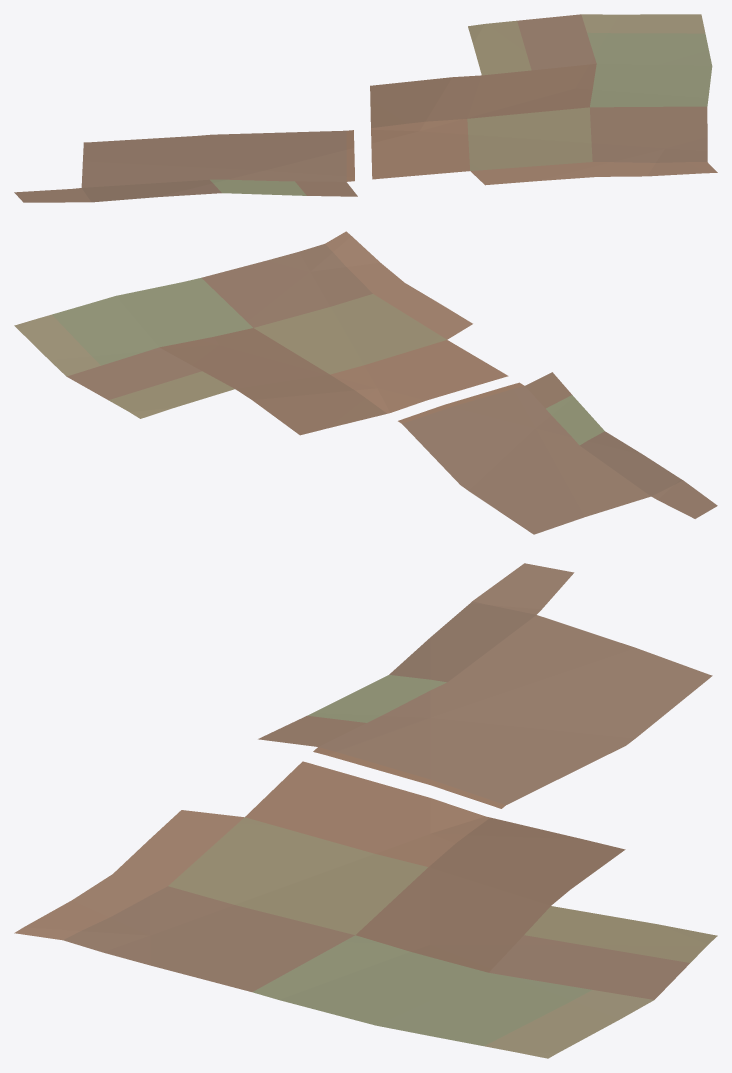
Rendered from farm_-30_-23_soil.glb.
3 renders of one model, top to bottom at view 1: azimuth 30°, elevation 25°; view 2: azimuth 150°, elevation 25°; view 3: azimuth 270°, elevation 25°, orthographic. The views are drawn at different scales.
Parts seen in each view (by area): view 1: geometry_0; view 2: geometry_0; view 3: geometry_0.
Boxes of the visible parts, left/top/right/bottom form: geometry_0: left=14, top=14, right=717, bottom=202; geometry_0: left=14, top=231, right=717, bottom=534; geometry_0: left=14, top=563, right=717, bottom=1058.
Bounding box in the file's own units: 352 × 16.76 × 201.
